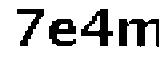4: (80, 7, 114, 50)
7: (9, 5, 46, 50)
e: (47, 17, 79, 50)
m: (113, 13, 160, 52)
